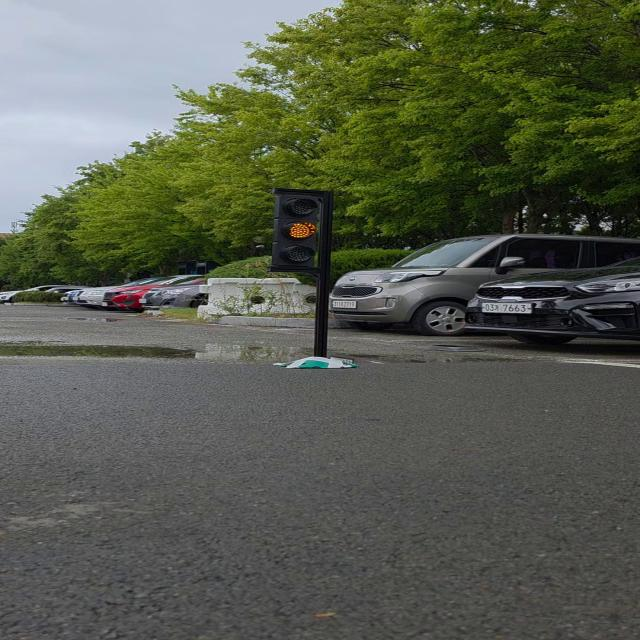yellow: (262, 183, 339, 275)
